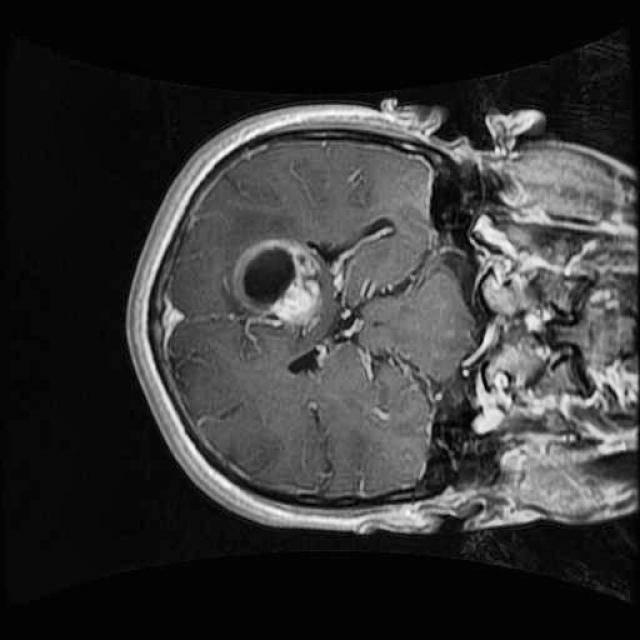Non-Tumor: (221, 229, 336, 339)
